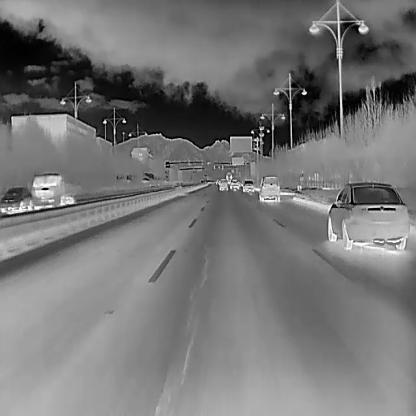car: (326, 181, 408, 250), (30, 171, 66, 209), (0, 186, 34, 215), (258, 175, 280, 202), (242, 179, 253, 192), (229, 177, 239, 189), (218, 178, 228, 190), (225, 171, 232, 181)
